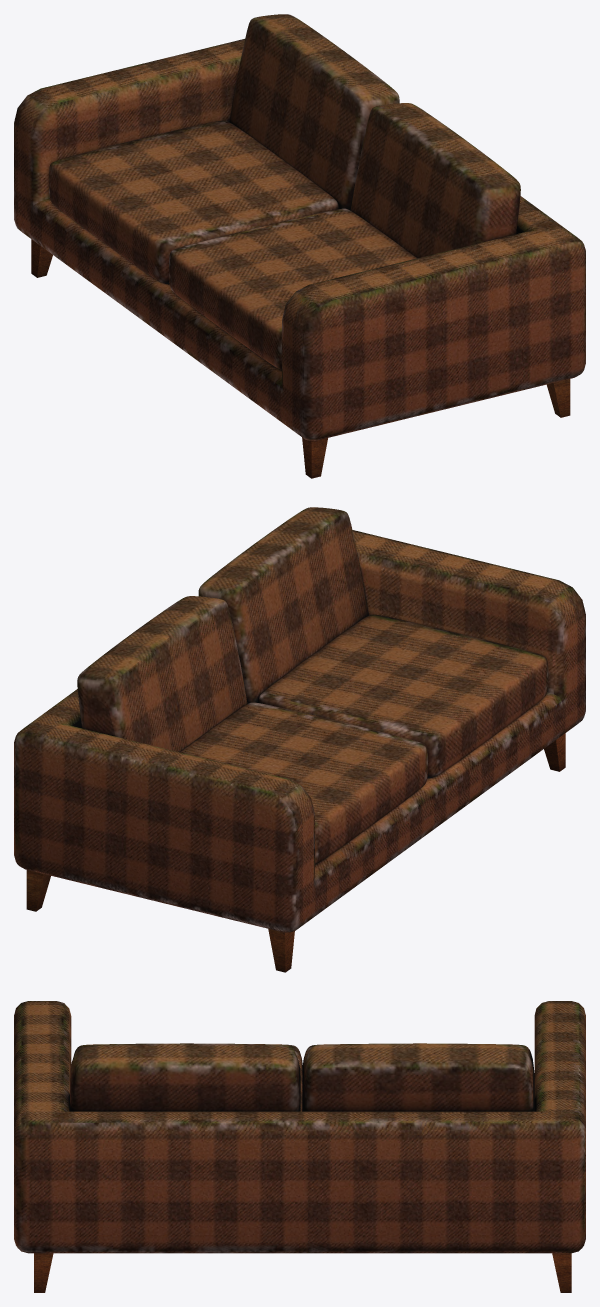
File: sofa.glb
3 views of the same model, one above another, from view 1: azimuth 30°, elevation 25°; view 2: azimuth 150°, elevation 25°; view 3: azimuth 270°, elevation 25° (orthographic). The views are drawn at different scales.
Parts seen in each view (by area): view 1: Cube.010, Cube.013, Cube.015, Cube.014, Cube.012, Cube.011; view 2: Cube.010, Cube.012, Cube.014, Cube.015, Cube.013, Cube.011; view 3: Cube.010, Cube.014, Cube.015, Cube.011.
Part boxes in pixels (x1,y1,x2,y2): Cube.010: (14, 39, 585, 440); Cube.013: (48, 120, 339, 282); Cube.015: (229, 14, 399, 210); Cube.014: (350, 103, 520, 258); Cube.012: (169, 208, 416, 370); Cube.011: (31, 239, 570, 478); Cube.010: (14, 530, 585, 932); Cube.012: (257, 614, 548, 776); Cube.014: (198, 507, 368, 703); Cube.015: (77, 596, 247, 751); Cube.013: (179, 702, 428, 863); Cube.011: (26, 733, 565, 972); Cube.010: (14, 1001, 585, 1253); Cube.014: (70, 1043, 300, 1111); Cube.015: (303, 1043, 533, 1111); Cube.011: (34, 1253, 571, 1292).
Bounding box in the file's own units: 1.8 × 1.39 × 3.25.
Materials: 1 (1 with a texture image).
